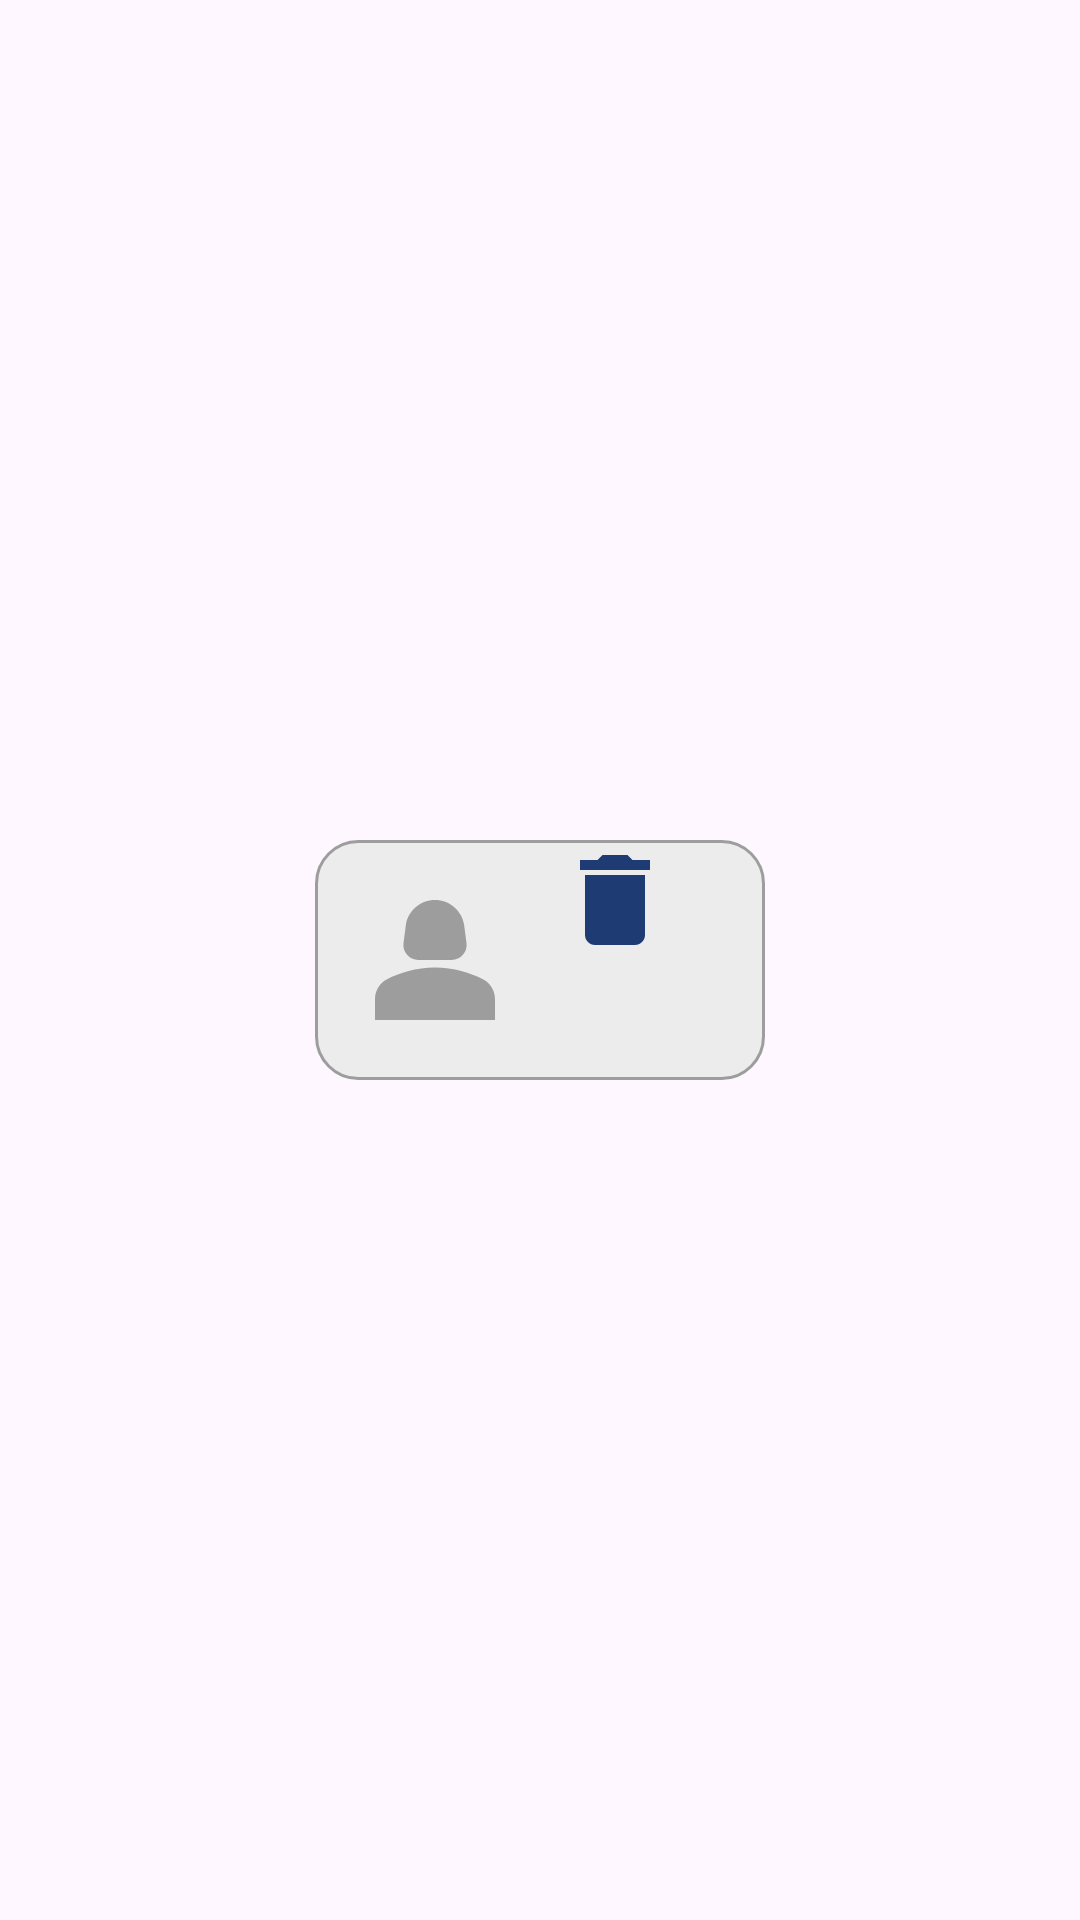

Icon bounding boxes for this 1080*1920 phone screenshot, format box(x1, y1, x2, y2):
delete: box(580, 855, 650, 945)
person: box(375, 900, 495, 1020)
